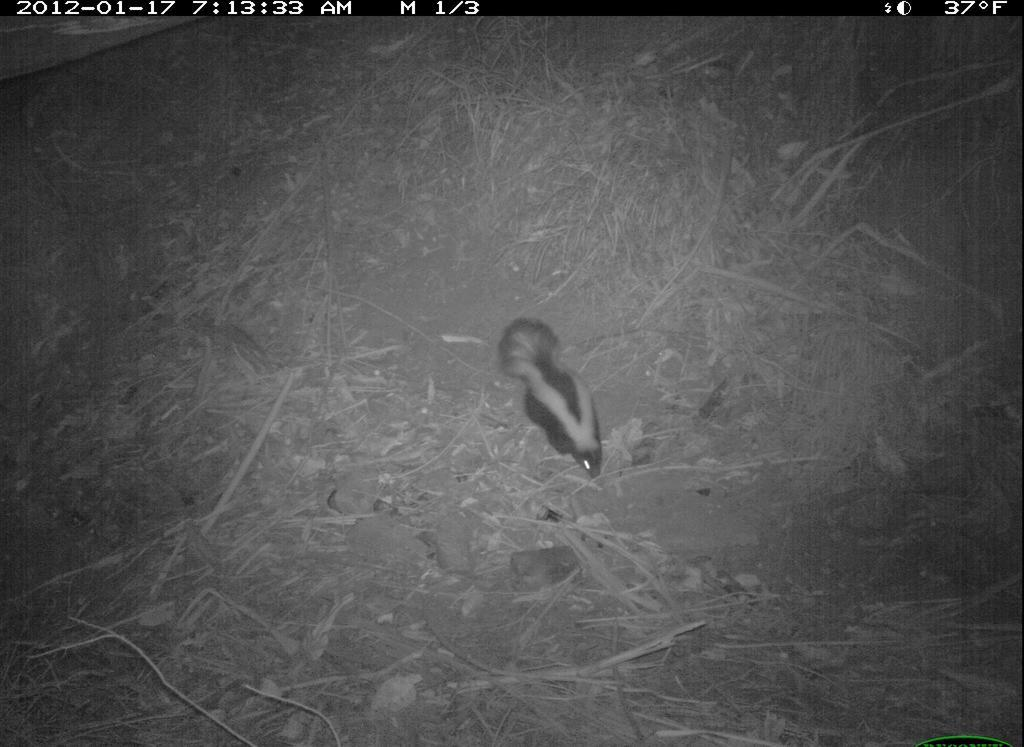skunk: (498, 305, 626, 496)
